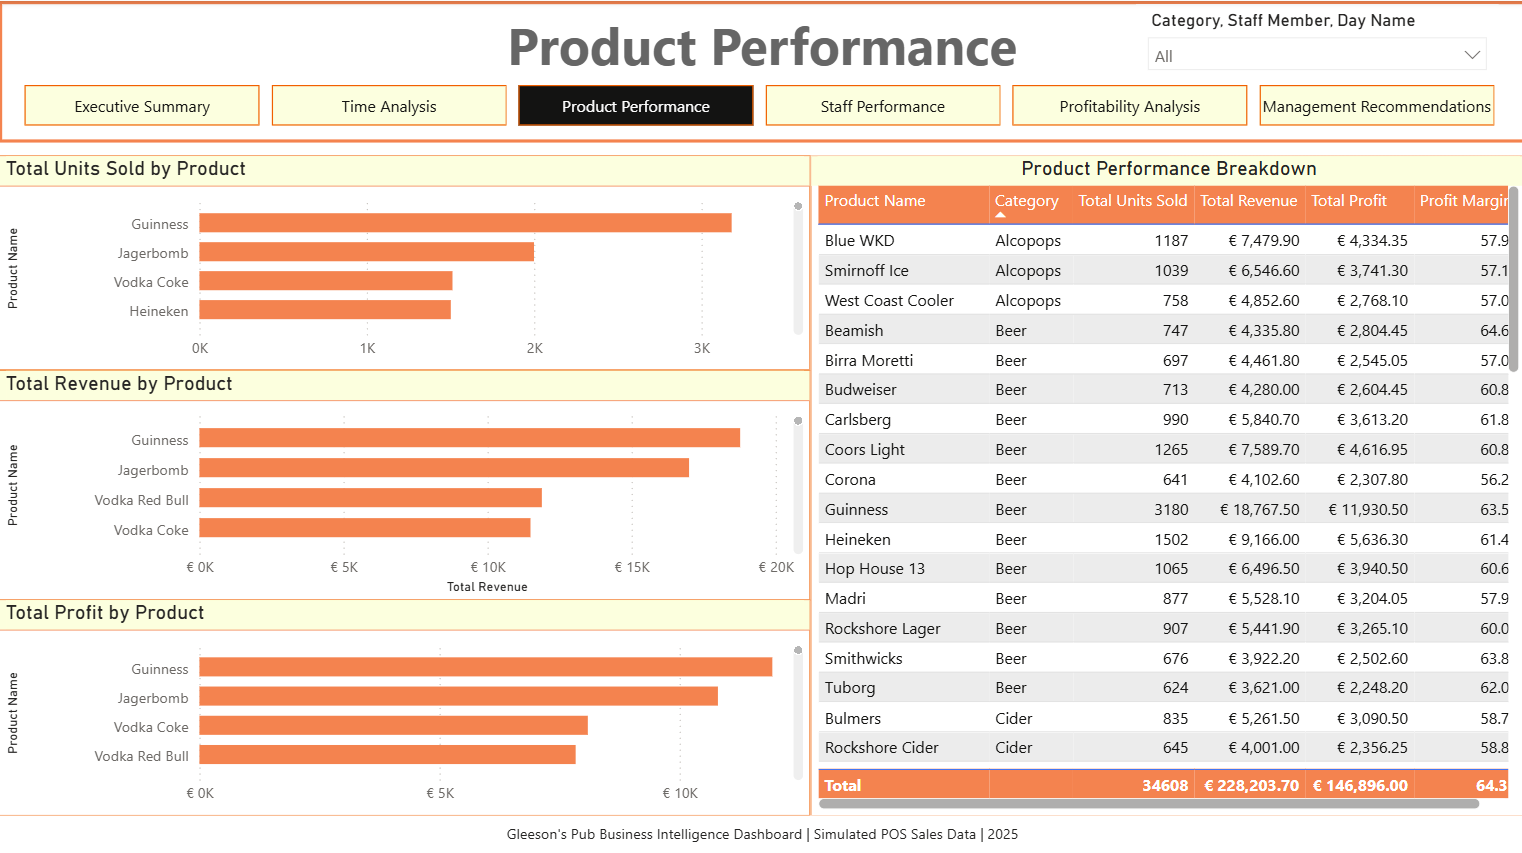

This screenshot's page, from the dashboard's own definition file:
{"tool":"powerbi","page":{"name":"Product Performance","canvas":[1280,720],"ordinal":2},"visuals":[{"type":"barChart","title":"Total Units Sold by Product ","fields":{"Category":["pub_sales_data.Product Name"],"Y":["pub_sales_data.Total Units Sold"]},"box":[0,129,680,180],"z":0},{"type":"barChart","title":"Total Revenue by Product ","fields":{"Category":["pub_sales_data.Product Name"],"Y":["pub_sales_data.Total Revenue"]},"box":[0,309,680,193],"z":1000},{"type":"barChart","title":"Total Profit by Product","fields":{"Category":["pub_sales_data.Product Name"],"Y":["pub_sales_data.Total Profit"]},"box":[0,502,680,181],"z":2000},{"type":"tableEx","title":"Product Performance Breakdown","fields":{"Values":["pub_sales_data.Product Name","pub_sales_data.Category","pub_sales_data.Total Units Sold","pub_sales_data.Total Revenue","pub_sales_data.Total Profit","pub_sales_data.Profit Margin %"]},"box":[680,129,600,554],"z":3000},{"type":"textbox","box":[0,0,1280,118.6],"z":4000},{"type":"slicer","fields":{"Values":["pub_sales_data.Category","pub_sales_data.Staff Member","pub_sales_data.Day Name"]},"box":[952.9,2.9,304.3,67.1],"z":5000},{"type":"textbox","box":[0,682.9,1280,37.1],"z":6000},{"type":"pageNavigator","box":[21.4,70,1235.7,34.3],"z":7000}]}

Visuals, with their boxes in screenshot pixels (x1, y1, x2, y2), scaled from the page's 1280x720 canvas onto the 1522x853 screenshot:
"Total Units Sold by Product " barChart: (x1=0, y1=153, x2=809, y2=366)
"Total Revenue by Product " barChart: (x1=0, y1=366, x2=809, y2=595)
"Total Profit by Product" barChart: (x1=0, y1=595, x2=809, y2=809)
"Product Performance Breakdown" tableEx: (x1=809, y1=153, x2=1521, y2=809)
textbox: (x1=0, y1=0, x2=1521, y2=141)
slicer - pub_sales_data.Category x pub_sales_data.Staff Member: (x1=1133, y1=3, x2=1495, y2=83)
textbox: (x1=0, y1=809, x2=1521, y2=852)
pageNavigator: (x1=25, y1=83, x2=1495, y2=124)
